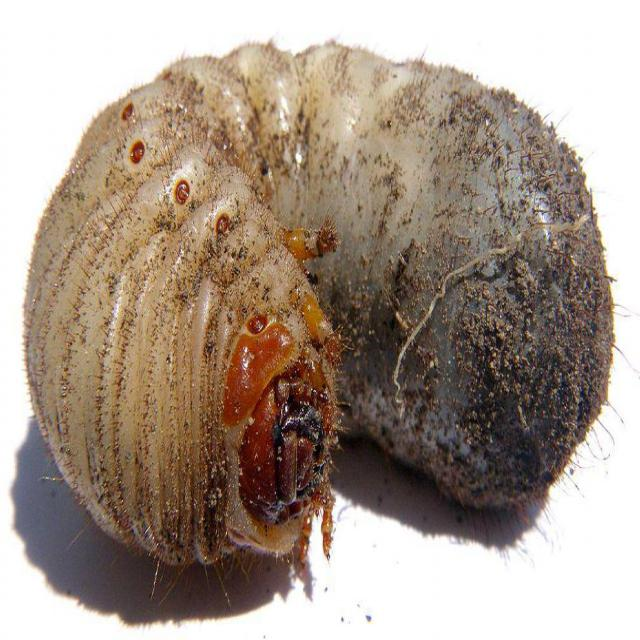Grub-Adult-: (26, 31, 616, 585)
